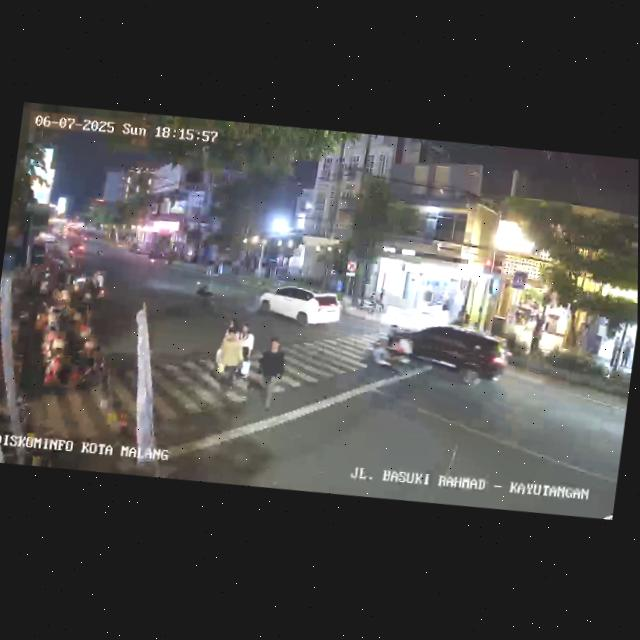car: (376, 313, 513, 394), (255, 278, 343, 335)
motorcycle: (362, 322, 418, 377), (190, 275, 218, 311), (88, 267, 108, 303)
person: (253, 333, 290, 407), (214, 323, 248, 401), (234, 324, 256, 384), (214, 316, 238, 371), (528, 316, 543, 354), (618, 335, 632, 370), (607, 336, 621, 369)
